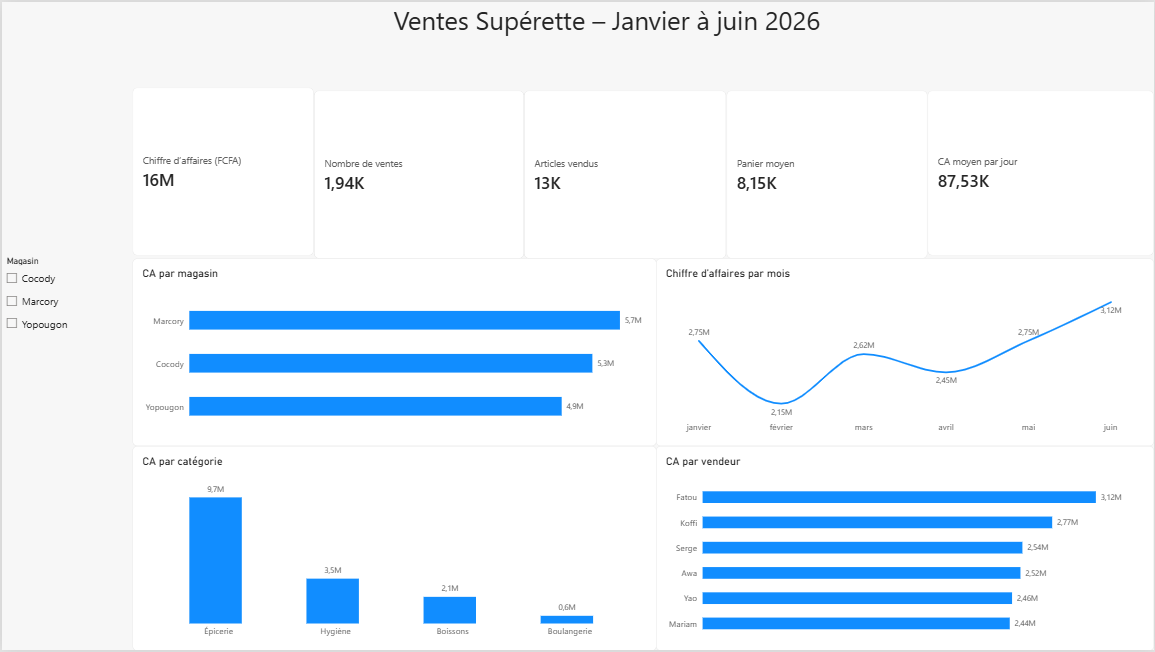

This screenshot's page, from the dashboard's own definition file:
{"tool":"powerbi","page":{"name":"Vue d’ensemble","canvas":[1920,1080],"ordinal":0},"visuals":[{"type":"barChart","title":"CA par magasin","fields":{"Category":["Ventes.Magasin"],"Y":["_Mesures.Chiffre d’affaires (FCFA)"]},"box":[217.1,427.1,873.2,312.6],"z":0},{"type":"cardVisual","fields":{"Data":["_Mesures.CA"]},"box":[217.5,142.5,302.5,280],"z":1000},{"type":"cardVisual","fields":{"Data":["_Mesures.Nombre de ventes"]},"box":[520,147.5,350,280],"z":2000},{"type":"cardVisual","fields":{"Data":["_Mesures.Articles vendus"]},"box":[870,147.5,337.5,280],"z":3000},{"type":"lineChart","title":"Chiffre d’affaires par mois","fields":{"Category":["Calendrier.Mois"],"Y":["_Mesures.Chiffre d’affaires (FCFA)"]},"box":[1090.4,427.1,830.3,312.6],"z":4000},{"type":"columnChart","title":"CA par catégorie","fields":{"Category":["Ventes.Catégorie"],"Y":["_Mesures.Chiffre d’affaires (FCFA)"]},"box":[217.1,739.6,873.2,341.2],"z":5000},{"type":"clusteredBarChart","title":"CA par vendeur","fields":{"Category":["Ventes.Vendeur"],"Y":["_Mesures.Chiffre d’affaires (FCFA)"]},"box":[1090.4,739.6,830.3,341.2],"z":6000},{"type":"slicer","fields":{"Values":["Ventes.Magasin"]},"box":[0,422.3,217.1,150.3],"z":7000},{"type":"textbox","box":[653.7,0,770.7,112.1],"z":8000},{"type":"cardVisual","fields":{"Data":["_Mesures.Panier moyen"]},"box":[1207.5,147.5,335,280],"z":9000},{"type":"cardVisual","fields":{"Data":["_Mesures.CA moyen par jour"]},"box":[1542.5,147.5,377.5,275],"z":10000}]}

Visuals, with their boxes in screenshot pixels (x1, y1, x2, y2), scaled from the page's 1920x1080 canvas onto the 1155x652 screenshot:
"CA par magasin" barChart: BBox(131, 258, 656, 447)
cardVisual - _Mesures.CA: BBox(131, 86, 313, 255)
cardVisual - _Mesures.Nombre de ventes: BBox(313, 89, 523, 258)
cardVisual - _Mesures.Articles vendus: BBox(523, 89, 726, 258)
"Chiffre d’affaires par mois" lineChart: BBox(656, 258, 1154, 447)
"CA par catégorie" columnChart: BBox(131, 446, 656, 651)
"CA par vendeur" clusteredBarChart: BBox(656, 446, 1154, 651)
slicer - Ventes.Magasin: BBox(0, 255, 131, 346)
textbox: BBox(393, 0, 857, 68)
cardVisual - _Mesures.Panier moyen: BBox(726, 89, 928, 258)
cardVisual - _Mesures.CA moyen par jour: BBox(928, 89, 1154, 255)
